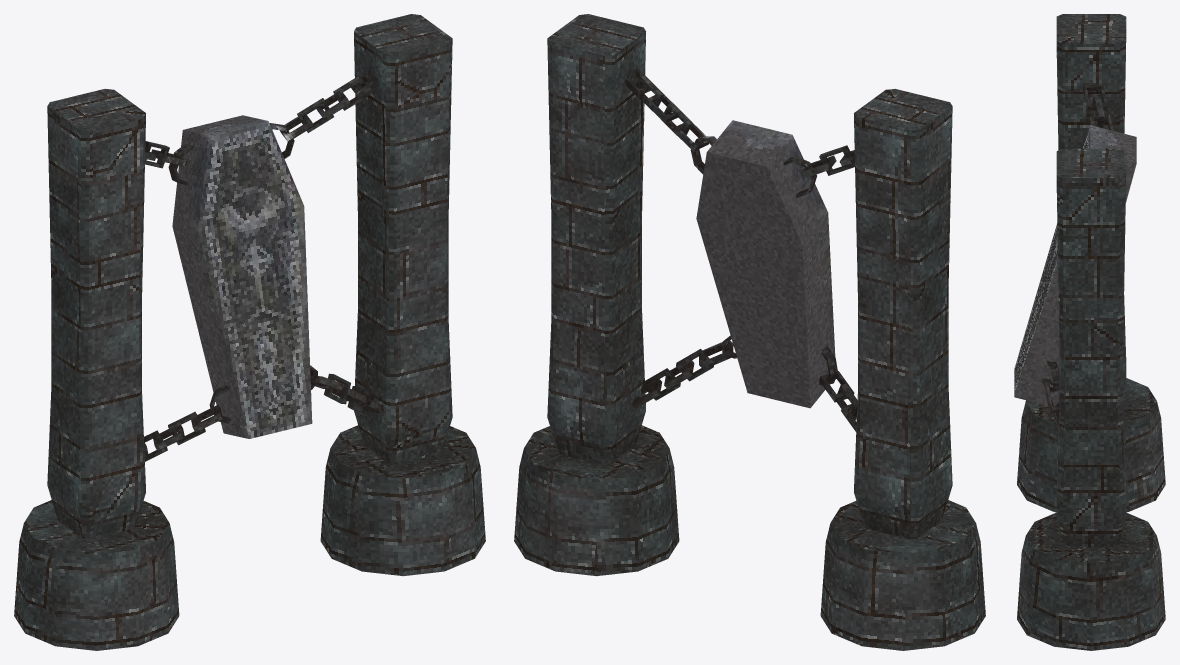
File: Chains_1003.gltf
The picture shows the model from 3 angles, left to right: view 1: azimuth 30°, elevation 25°; view 2: azimuth 150°, elevation 25°; view 3: azimuth 270°, elevation 25°; orthographic projection. The views are drawn at different scales.
Visible parts, largest first — view 1: Chains_1.003; view 2: Chains_1.003; view 3: Chains_1.003.
Boxes of the visible parts, bbox=[...] form: Chains_1.003: bbox=[14, 14, 485, 650]; Chains_1.003: bbox=[514, 14, 985, 650]; Chains_1.003: bbox=[1014, 14, 1165, 650].
Bounding box in the file's own units: 8.08 × 8.7 × 2.62.
1 material, 1 textured.
